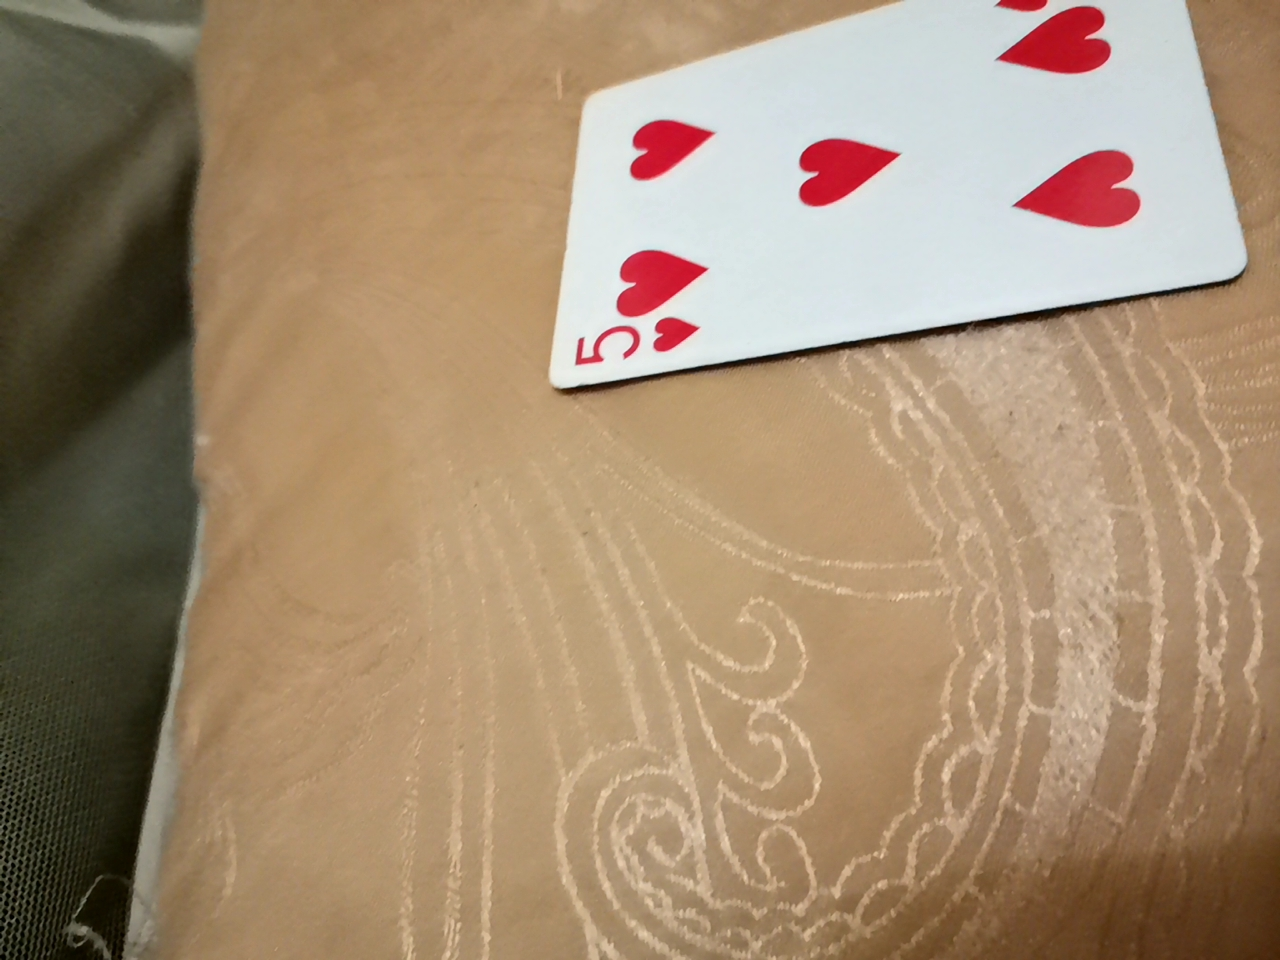hx 5: (520, 0, 1227, 427)
